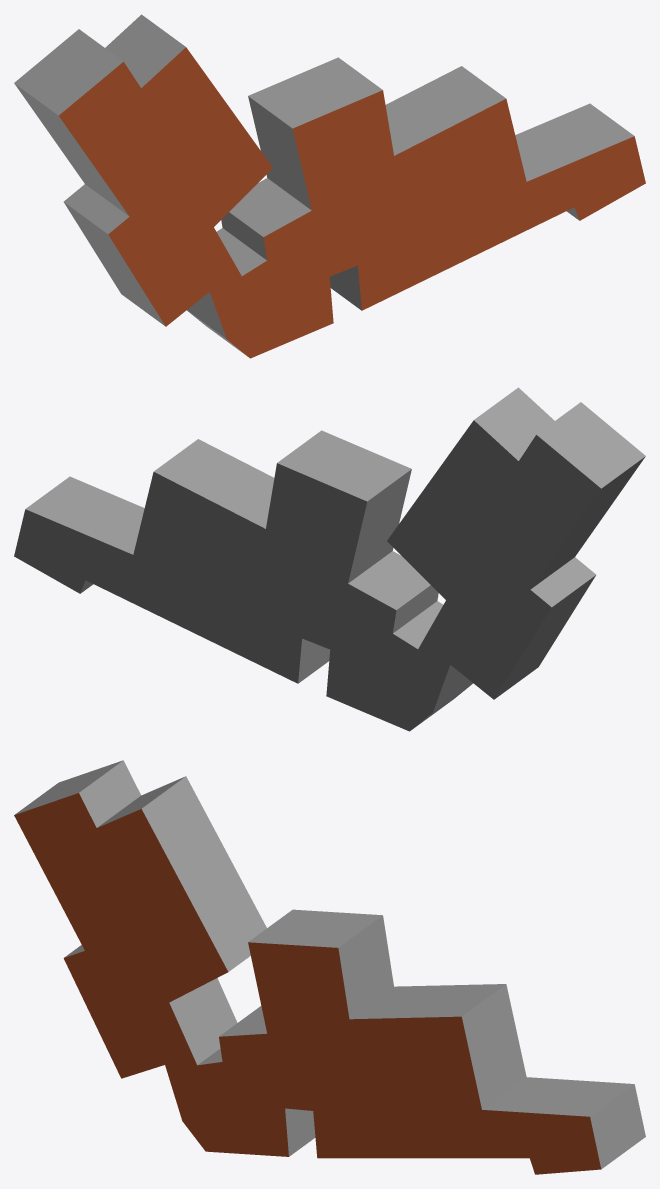
The model's file is construction_5239_assumed_A_Casa_h6m.obj.
3 views of the same model, one above another, from view 1: azimuth 30°, elevation 25°; view 2: azimuth 150°, elevation 25°; view 3: azimuth 330°, elevation 25° (orthographic).
Parts seen in each view (by area): view 1: construction_5239_assumed_A_Casa; view 2: construction_5239_assumed_A_Casa; view 3: construction_5239_assumed_A_Casa.
Boxes of the visible parts, box(x1,y1,x2,y2) form: construction_5239_assumed_A_Casa: box(14, 14, 645, 358); construction_5239_assumed_A_Casa: box(14, 387, 645, 731); construction_5239_assumed_A_Casa: box(14, 760, 645, 1174).
Size of the model in its own units: 45.57 by 24.31 by 6.
